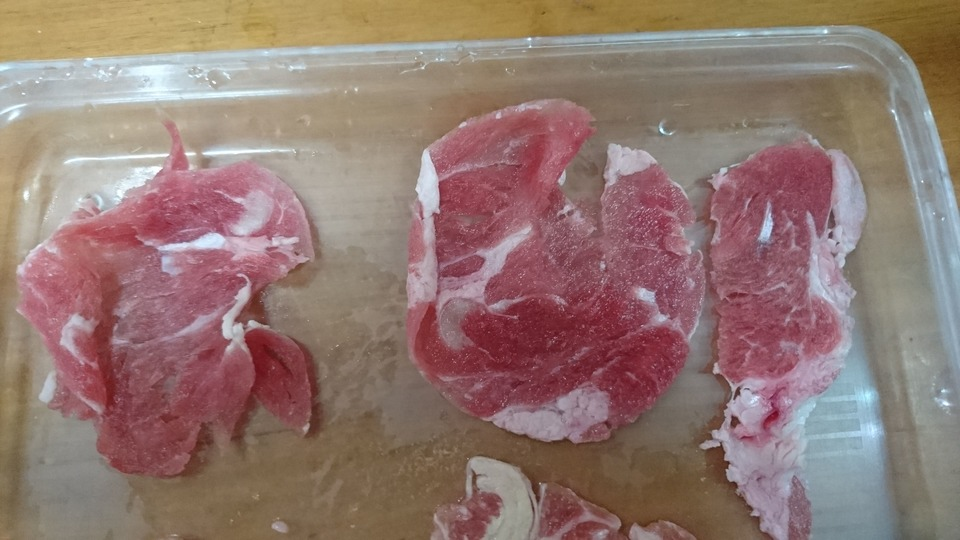restructured meat: (396, 86, 698, 432), (32, 153, 323, 452), (710, 93, 874, 506), (412, 457, 720, 540)
